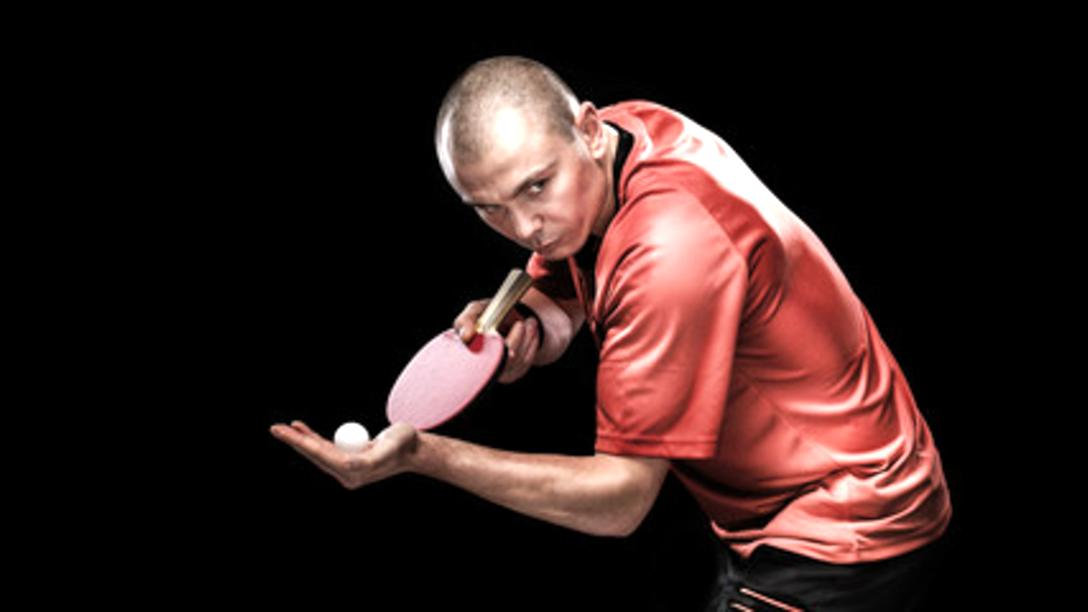Table-Tennis-Ball: (337, 422, 368, 452)
